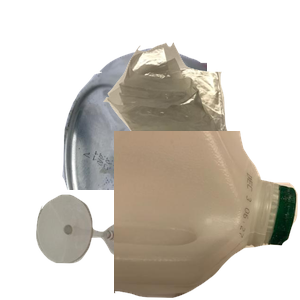glass: (34, 192, 187, 300)
metal: (60, 44, 300, 224)
plastic: (114, 131, 300, 300)
trash: (101, 40, 300, 192)
